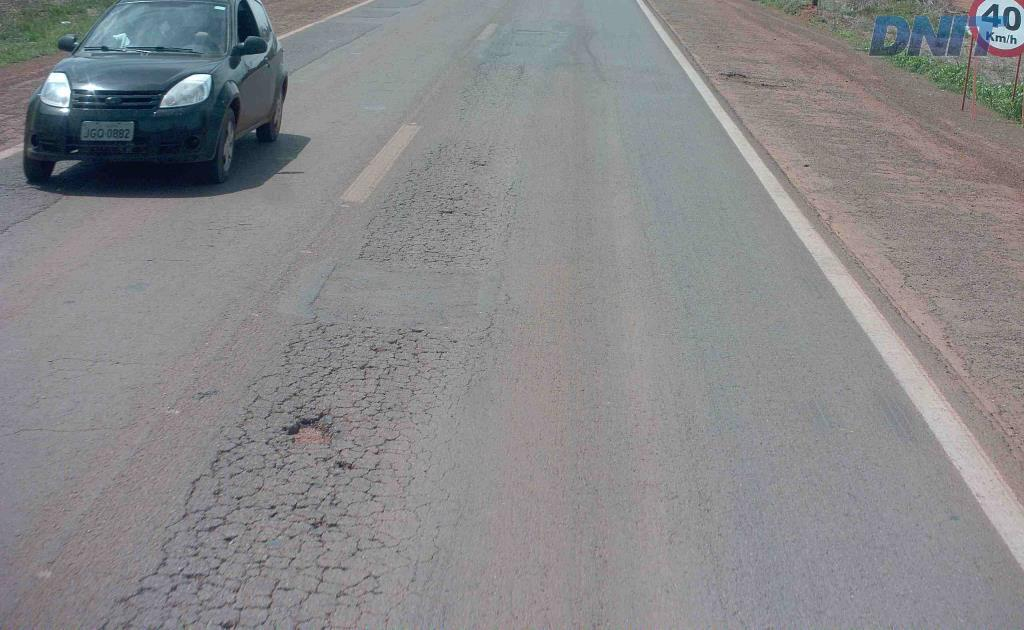crack: (258, 322, 424, 450), (166, 390, 271, 557), (325, 357, 436, 447), (163, 552, 231, 598), (357, 220, 420, 262), (423, 182, 479, 228), (275, 513, 341, 548), (228, 554, 272, 598)
pothole: (278, 410, 337, 451)
